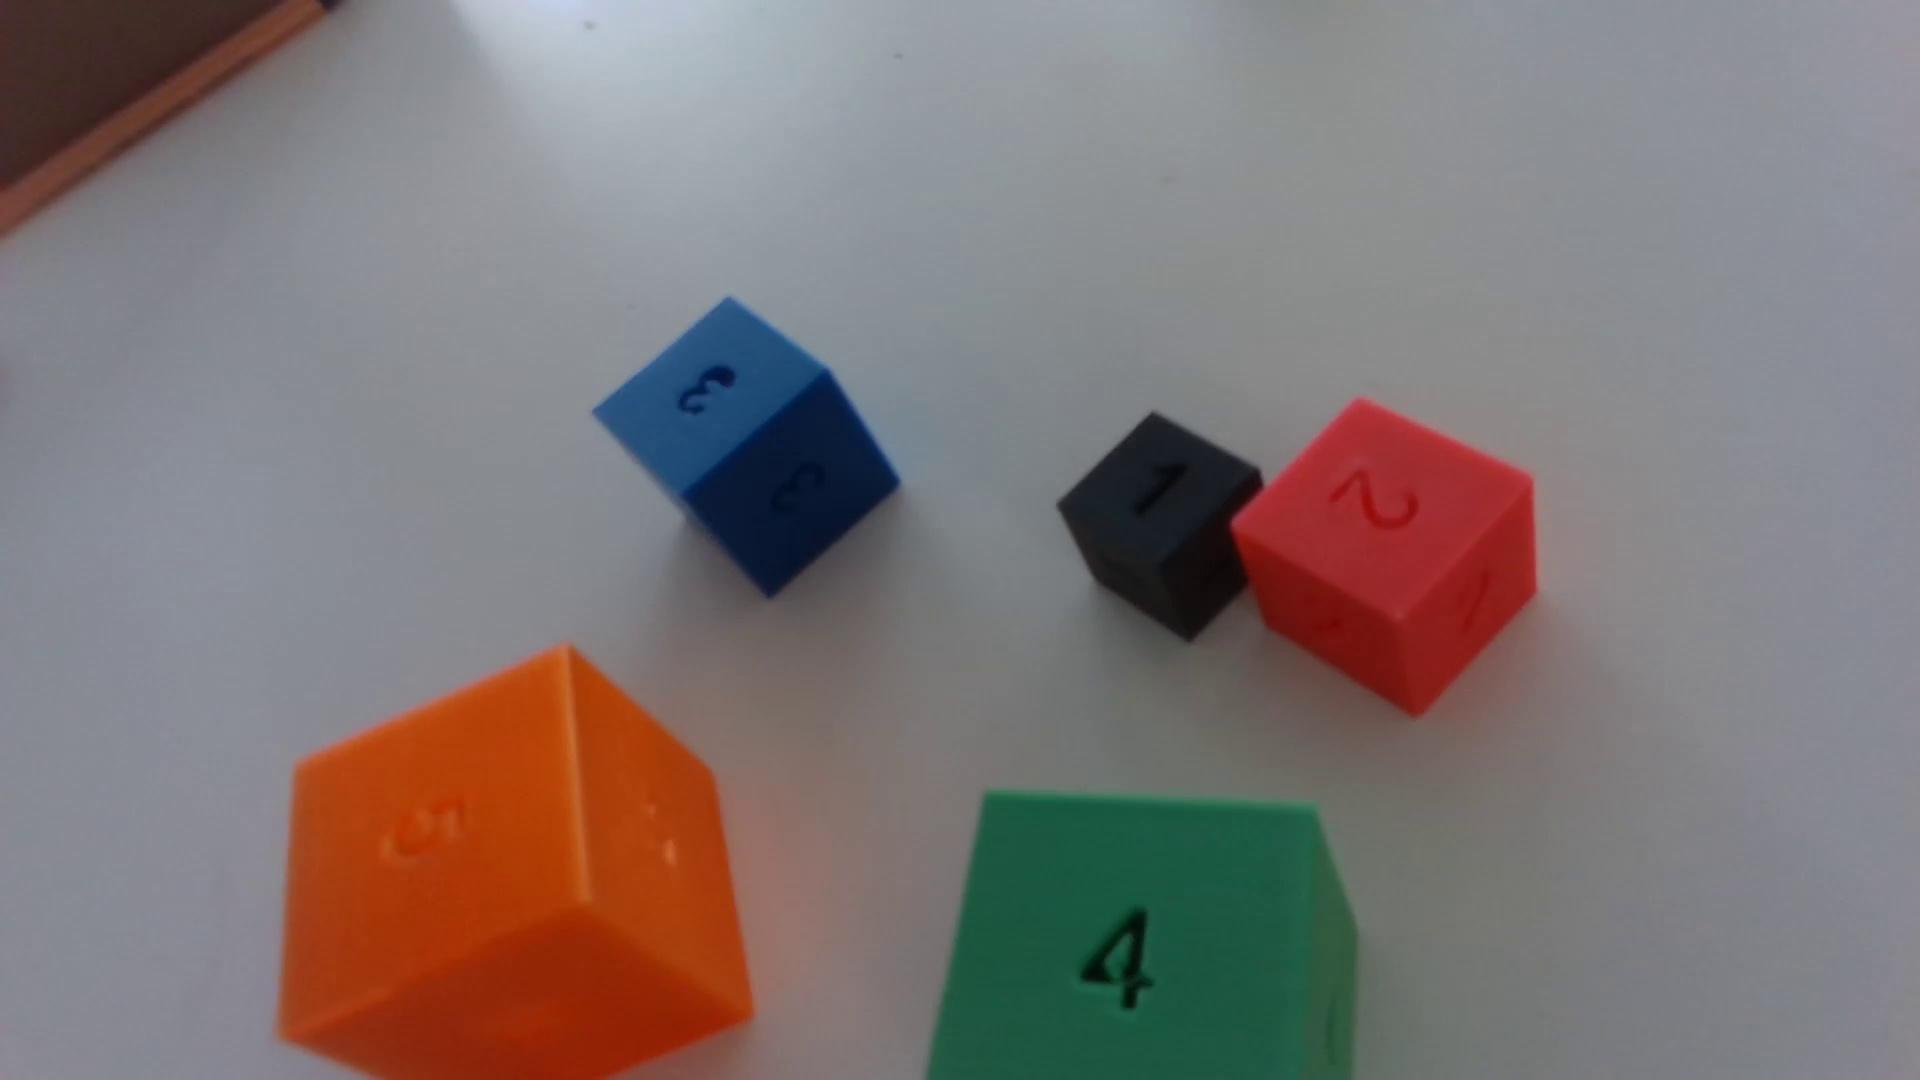black: (1058, 414, 1263, 642)
blue: (593, 299, 899, 597)
green: (928, 793, 1358, 1080)
orange: (278, 647, 752, 1080)
red: (1233, 400, 1536, 716)
